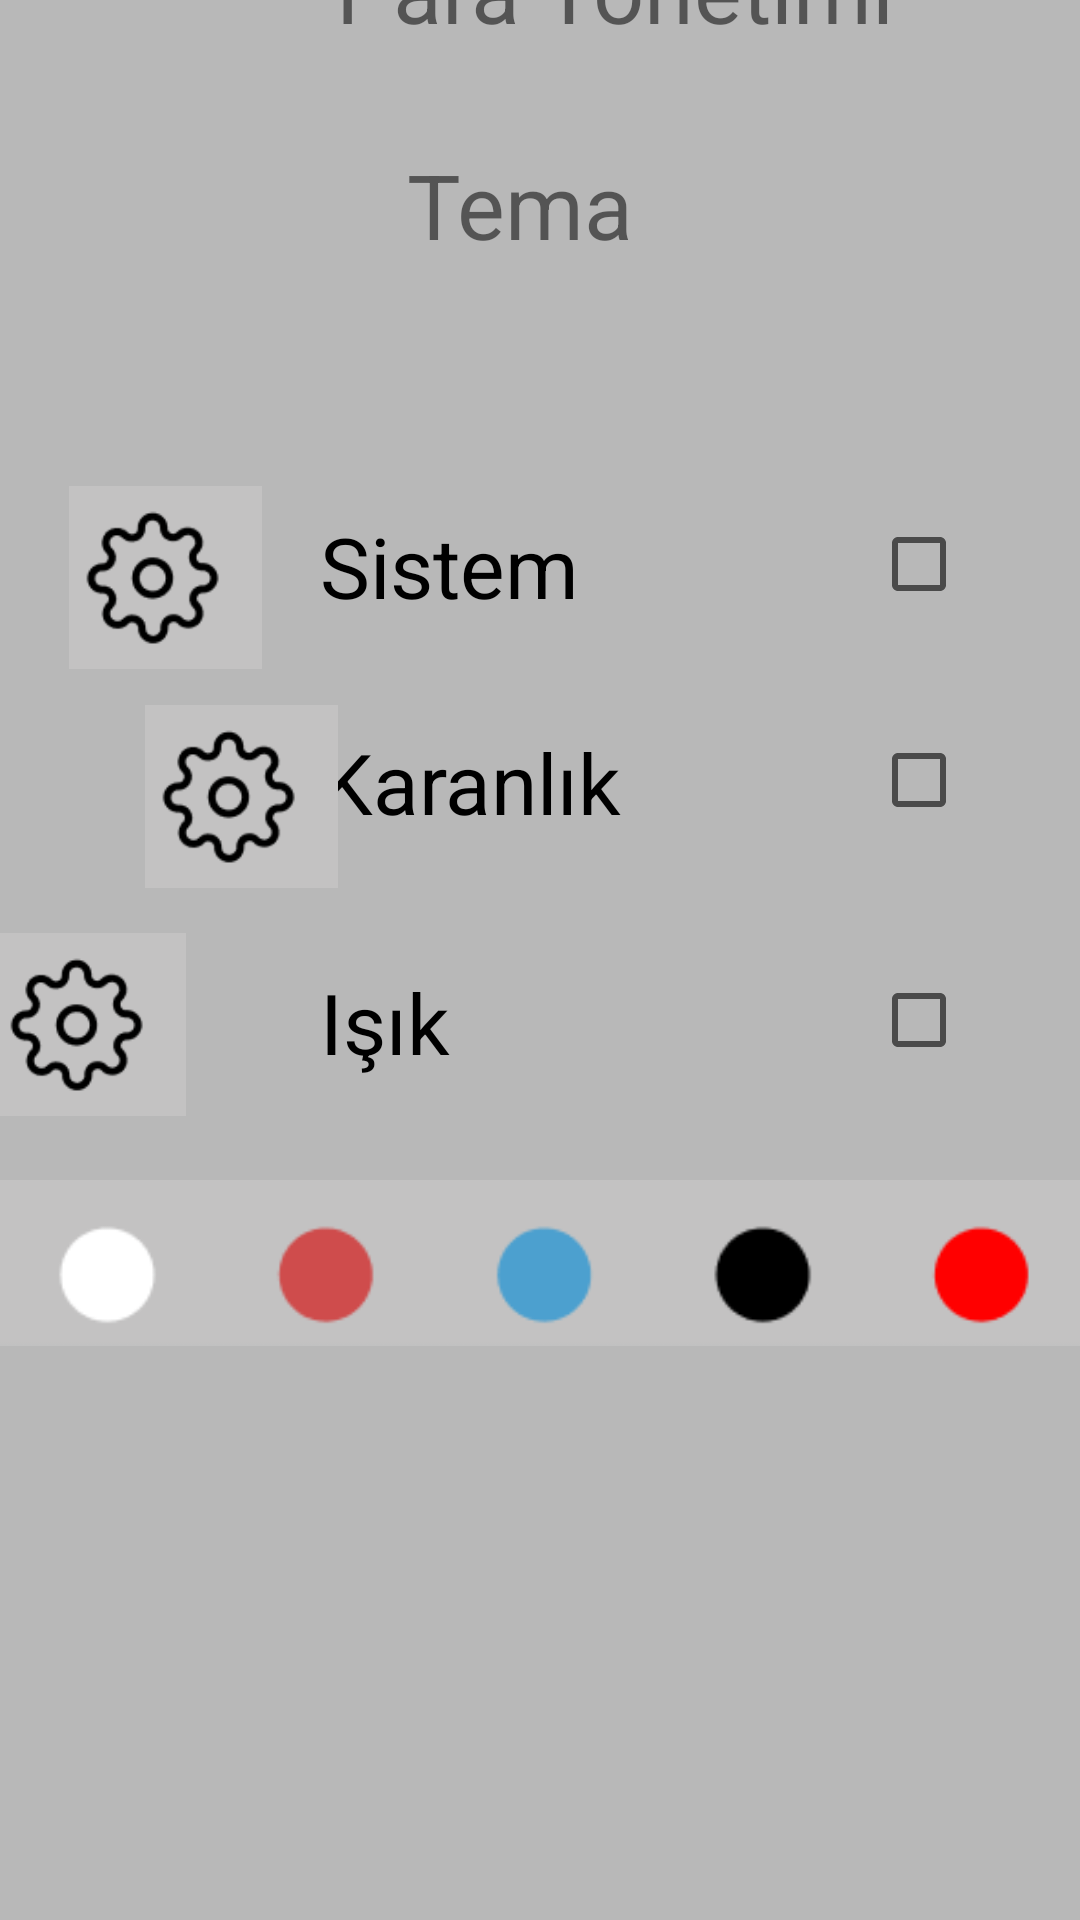

Locate icon controls on the screen. Image size 1080*1920, boxes as (x1,y1,x2,y2).
ayar: (69,486,262,669), (145,705,339,888), (0,933,186,1116)
